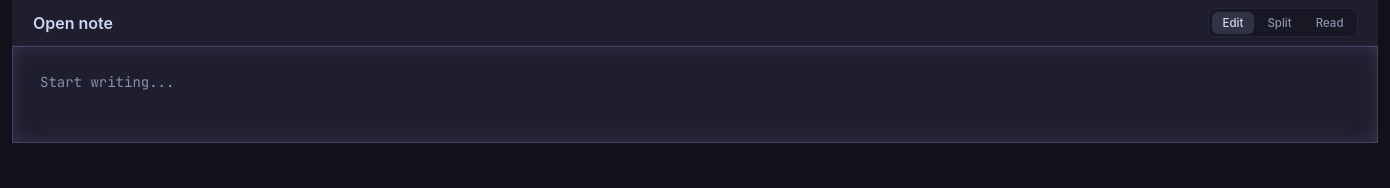
Test: Link autocomplete (#548) › offers to create a link when nothing matches
The image size is (1390, 188).
In the text box with class "editor-textarea": point(695, 94) [12, 46, 1378, 143], type "[ [Brand new"
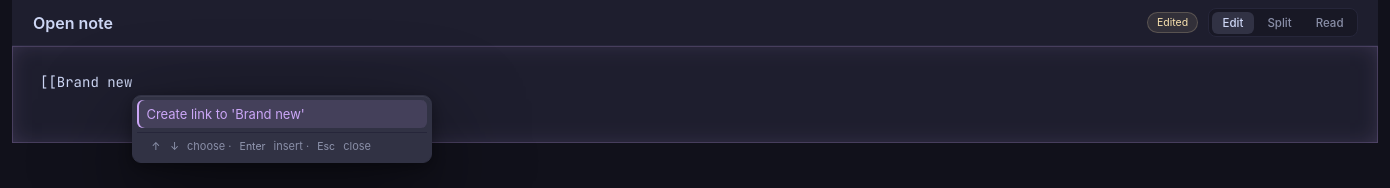
Press Enter in the text box with class "editor-textarea", box [12, 46, 1378, 143]
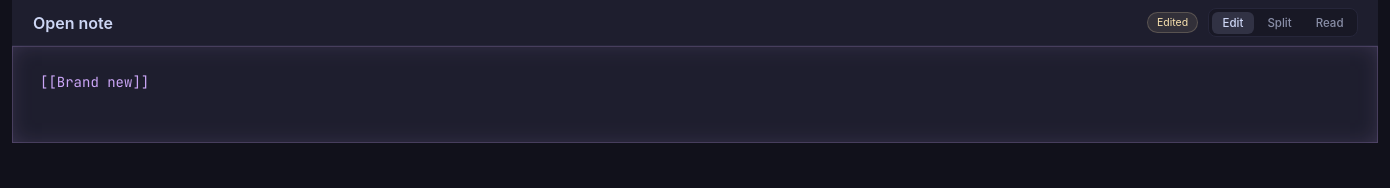
Now the text box with class "editor-textarea" holds "[ [Brand new]]", box [12, 46, 1378, 143]
